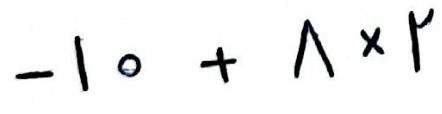character: (293, 19, 335, 80), (407, 7, 435, 73), (202, 46, 241, 85), (73, 35, 90, 91), (359, 27, 387, 59), (118, 53, 145, 79), (15, 70, 55, 82)
